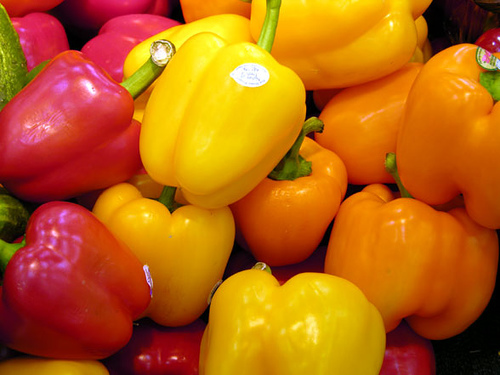capsicum: (0, 41, 174, 204), (199, 261, 387, 374)
